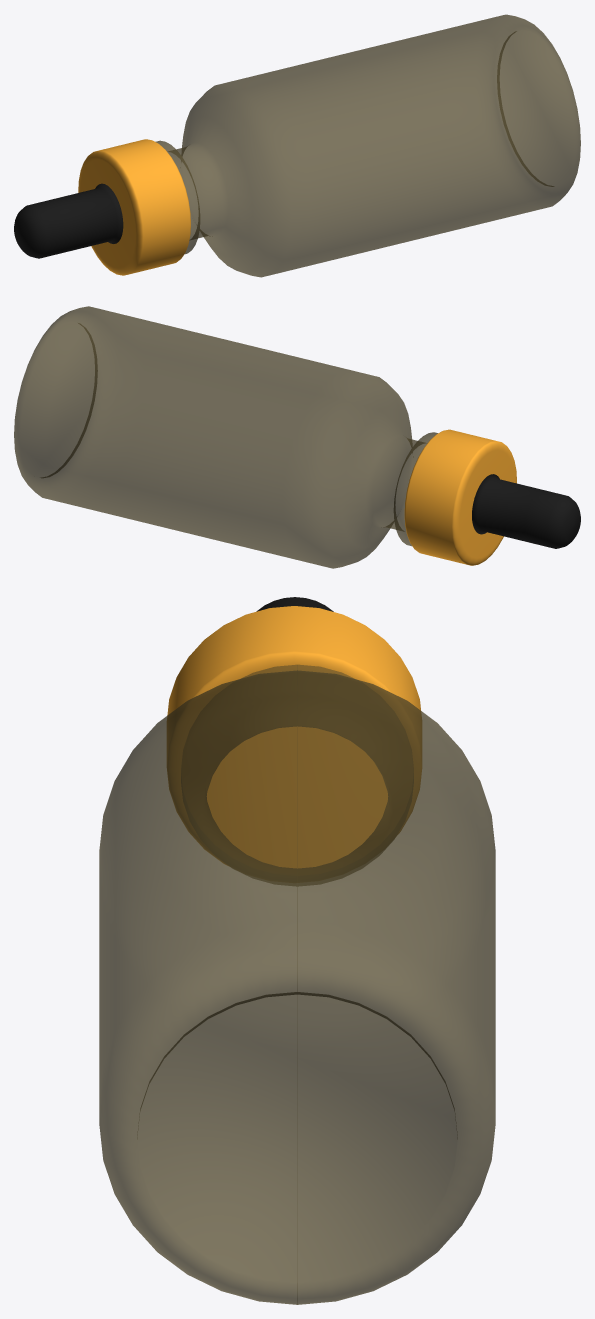
File: SerumBottle7.gltf
3 views of the same model, one above another, from view 1: azimuth 30°, elevation 25°; view 2: azimuth 150°, elevation 25°; view 3: azimuth 270°, elevation 25° (orthographic). The views are drawn at different scales.
Visible parts, largest first — view 1: Cylinder, Cylinder.001, Cylinder.002; view 2: Cylinder, Cylinder.001, Cylinder.002; view 3: Cylinder, Cylinder.001.
Boxes of the visible parts, <box> form: Cylinder: <box>155,14,580,277</box>; Cylinder.001: <box>78,139,190,275</box>; Cylinder.002: <box>14,183,123,258</box>; Cylinder: <box>14,306,437,568</box>; Cylinder.001: <box>404,429,516,565</box>; Cylinder.002: <box>472,474,580,548</box>; Cylinder: <box>99,664,495,1304</box>; Cylinder.001: <box>167,606,421,868</box>.
Bounding box in the file's own units: 4.21 × 1.39 × 1.39.
